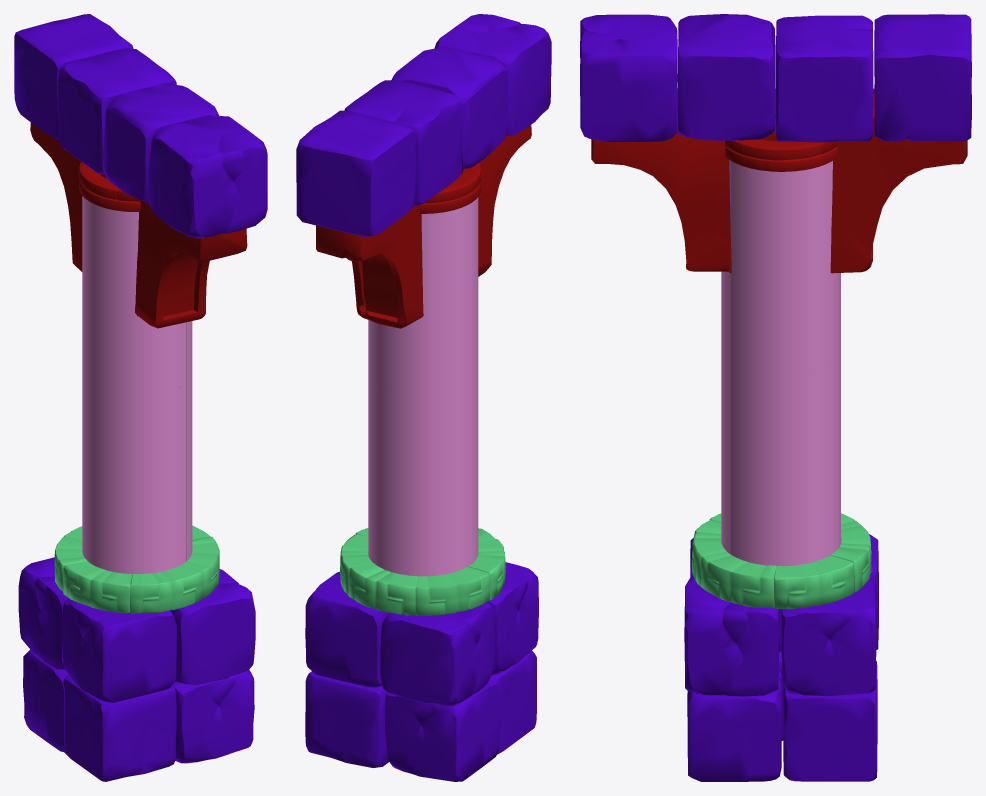
The model's file is column01.fbx.
3 renders of one model, left to right at view 1: azimuth 30°, elevation 25°; view 2: azimuth 150°, elevation 25°; view 3: azimuth 270°, elevation 25°, orthographic. The views are drawn at different scales.
Visible parts, largest first — view 1: column01; view 2: column01; view 3: column01.
Part boxes in pixels (<box>): column01: <box>14,14,267,781</box>; column01: <box>296,14,551,781</box>; column01: <box>580,14,971,781</box>.
Size of the model in its own units: 2.68 by 11.02 by 5.51.
